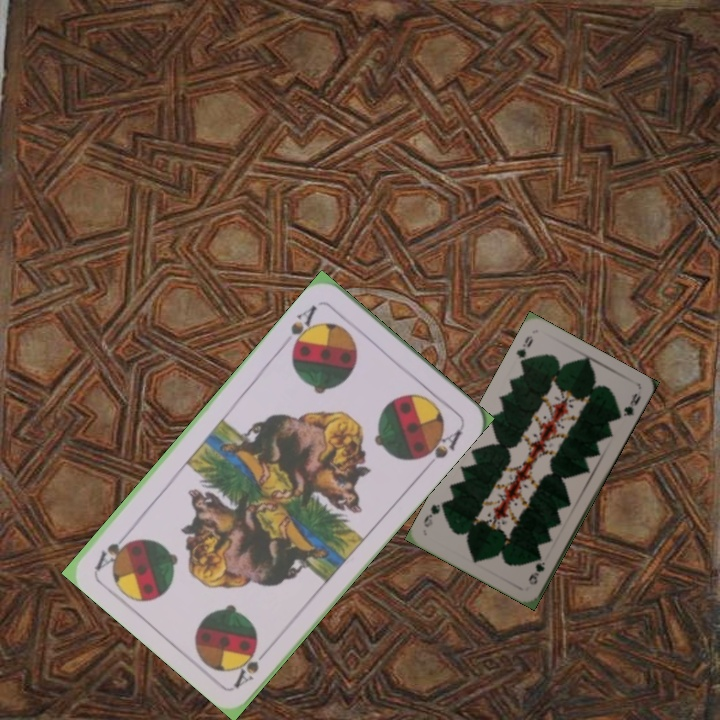G9: (512, 331, 536, 370), (524, 558, 547, 588)
SA: (229, 641, 274, 690), (286, 300, 320, 354)
